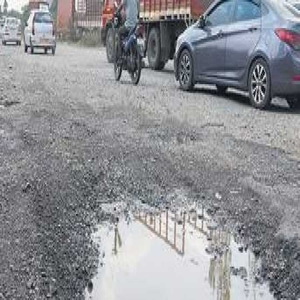pothole: (63, 173, 287, 300)
